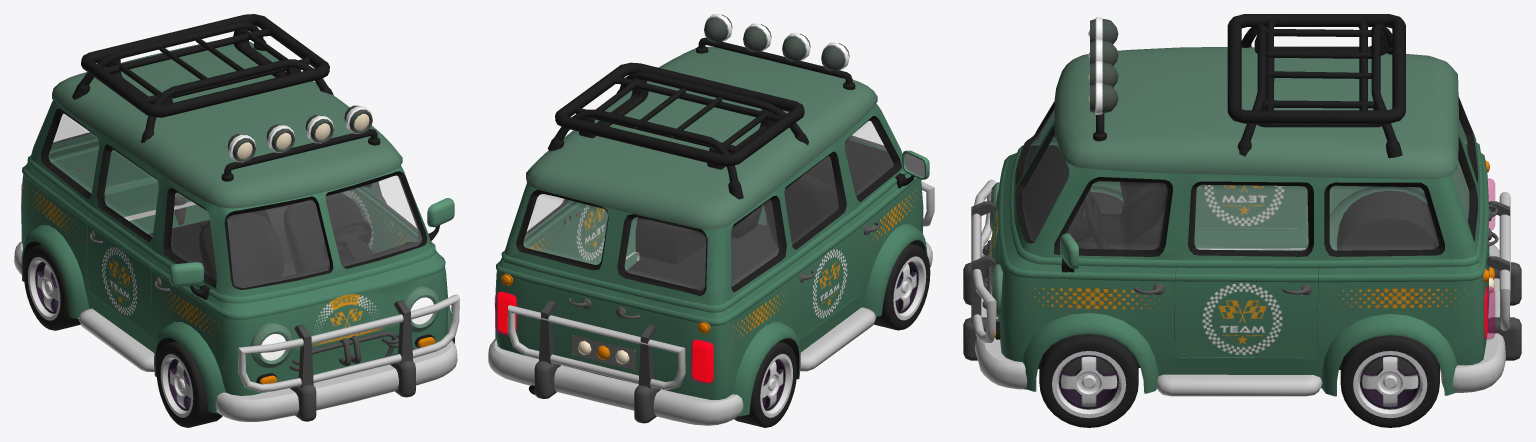
The model's file is van.glb.
3 renders of one model, left to right at view 1: azimuth 30°, elevation 25°; view 2: azimuth 150°, elevation 25°; view 3: azimuth 270°, elevation 25°, orthographic. The views are drawn at different scales.
Parts seen in each view (by area): view 1: Van_Body, Van_Roof Rock, Van_Front_Grille_Bumper, Van_Roof Light Bar, Van_Wheel_FL, Van_Wheel_FR; view 2: Van_Body, Van_Roof Rock, Van_Rear Bumper, Van_Roof Light Bar, Van_Wheel_FL, Van_Wheel_FR, Van_Extra Back Light; view 3: Van_Body, Van_Roof Rock, Van_Wheel_RL, Van_Wheel_RR, Van_Front_Grille_Bumper, Van_Roof Light Bar, Van_Rear Bumper.
Boxes of the visible parts, box(x1,y1,x2,y2) form: Van_Body: box(14, 41, 457, 421); Van_Roof Rock: box(72, 14, 333, 142); Van_Front_Grille_Bumper: box(238, 294, 459, 392); Van_Roof Light Bar: box(221, 105, 380, 181); Van_Wheel_FL: box(156, 341, 222, 427); Van_Wheel_FR: box(23, 244, 80, 330); Van_Body: box(488, 46, 932, 425); Van_Roof Rock: box(547, 62, 808, 199); Van_Rear Bumper: box(507, 300, 685, 390); Van_Roof Light Bar: box(696, 14, 855, 89); Van_Wheel_FL: box(873, 243, 930, 330); Van_Wheel_FR: box(734, 341, 797, 427); Van_Extra Back Light: box(572, 335, 635, 369); Van_Body: box(963, 47, 1521, 396); Van_Roof Rock: box(1227, 14, 1405, 158); Van_Wheel_RL: box(1039, 334, 1138, 427); Van_Wheel_RR: box(1340, 335, 1439, 427); Van_Front_Grille_Bumper: box(971, 179, 996, 342); Van_Roof Light Bar: box(1088, 17, 1118, 141); Van_Rear Bumper: box(1487, 192, 1510, 330).
Size of the model in its own units: 0.6619 by 0.6043 by 0.9973.
Materials: 6 (2 with a texture image).
